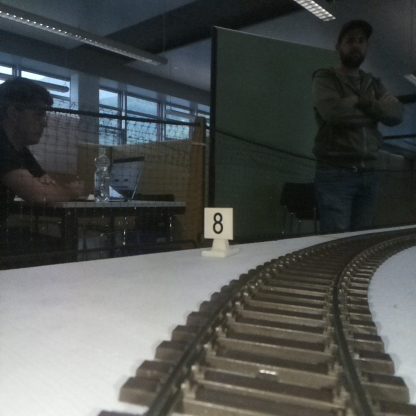white-stop-8: (204, 207, 232, 254)
